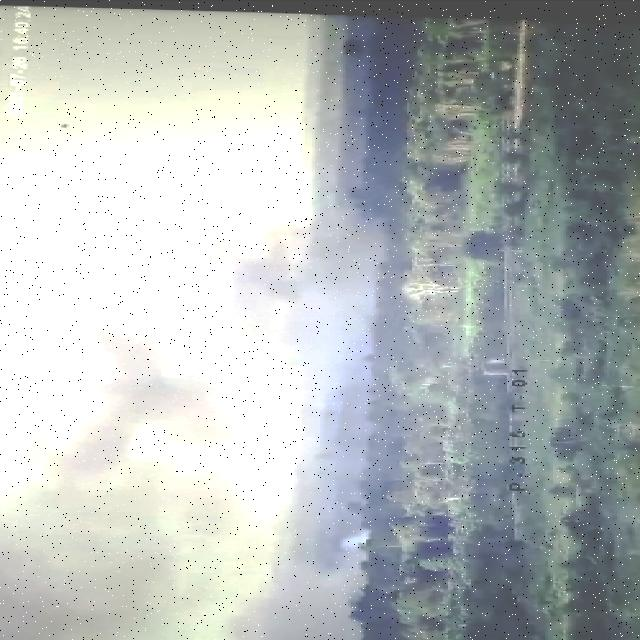asap: (2, 207, 416, 640), (199, 524, 383, 640)
